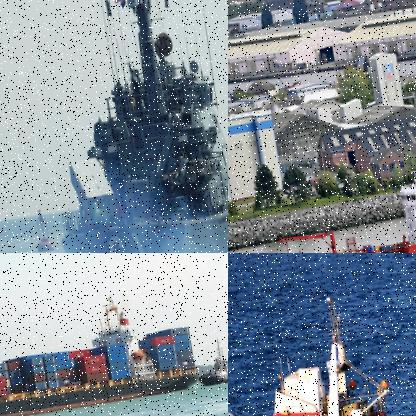Fishing Boat: (228, 257, 415, 415)
Merchant Ship: (0, 285, 201, 415), (228, 130, 415, 252)
Military Ship: (13, 0, 227, 252)
Tugboat: (192, 332, 227, 388)
